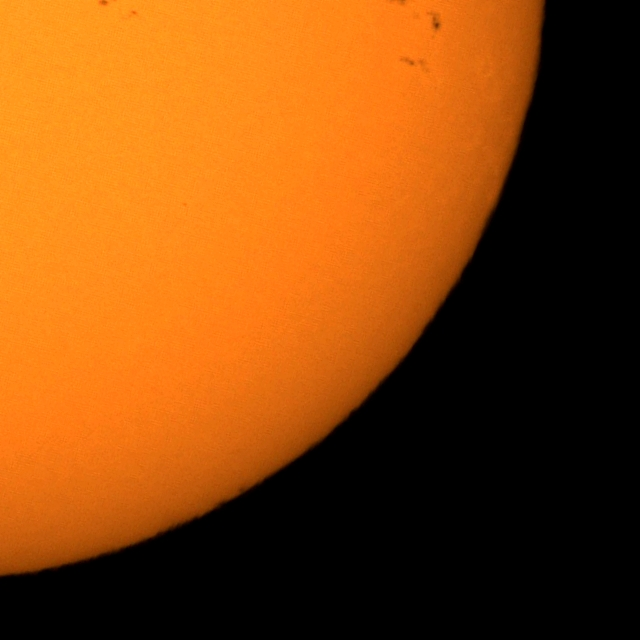sunspot: (425, 9, 443, 35), (398, 55, 427, 70), (97, 0, 110, 7), (130, 9, 138, 17)
